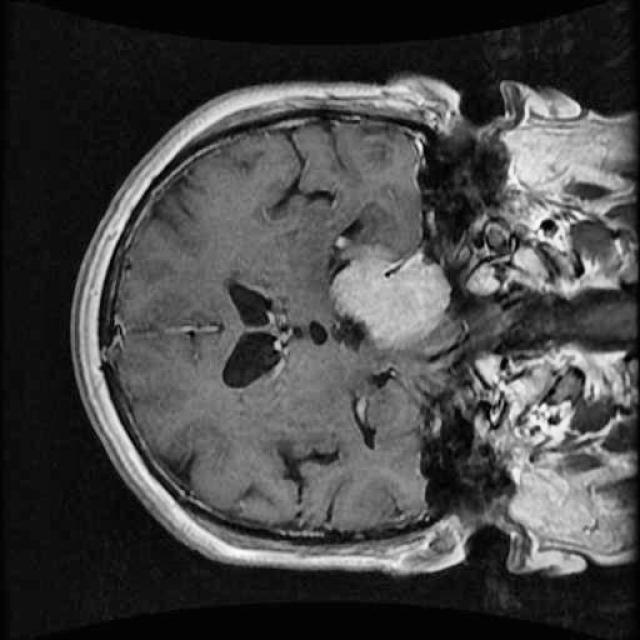Tumor: (321, 233, 458, 365)
